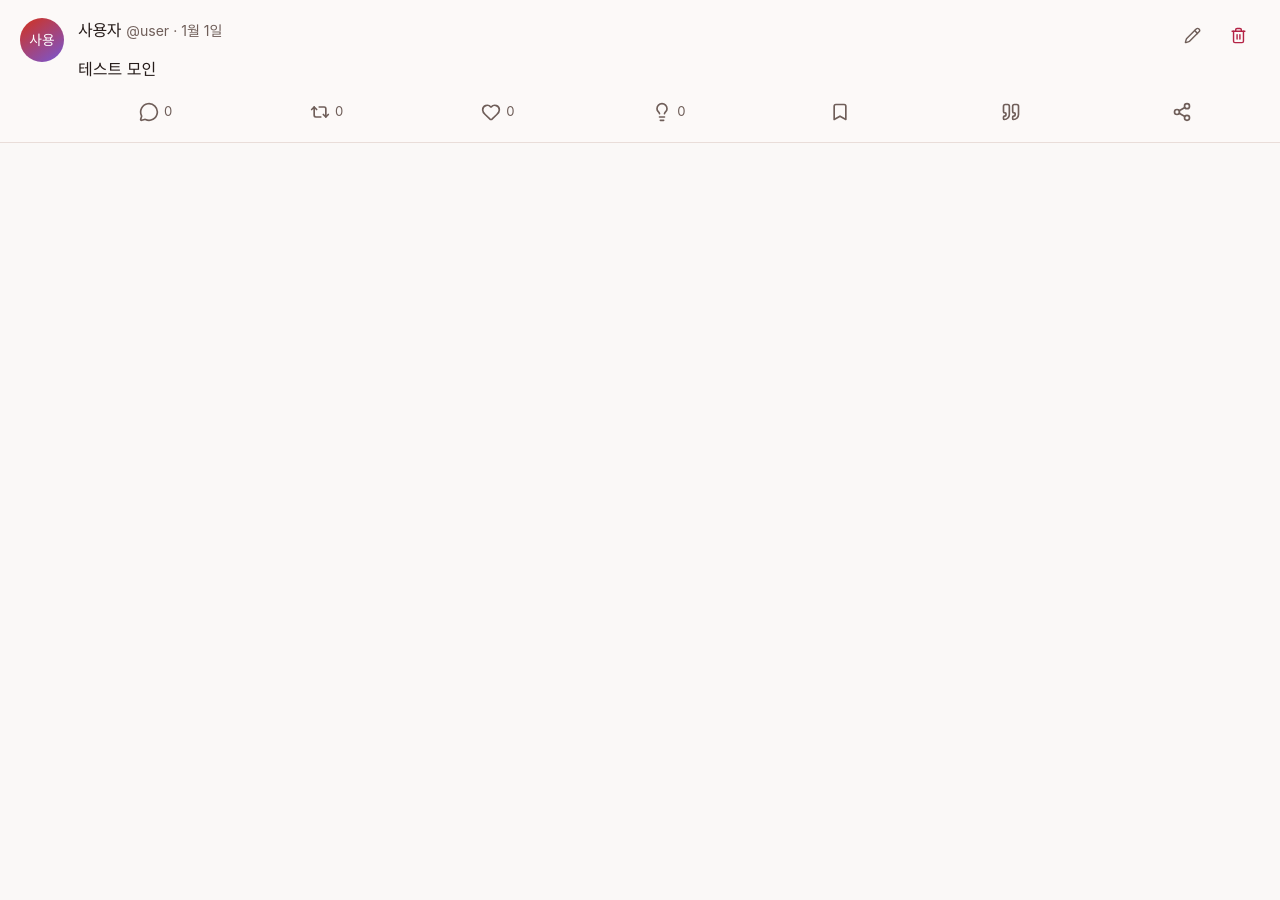
Scenario: MoinCard optimistic mutation › 확인 후 본인 모인을 삭제하고 피드 cache callback에 반영한다
Click the button named "모인 삭제" at (1238, 35), box [1216, 18, 1260, 52]
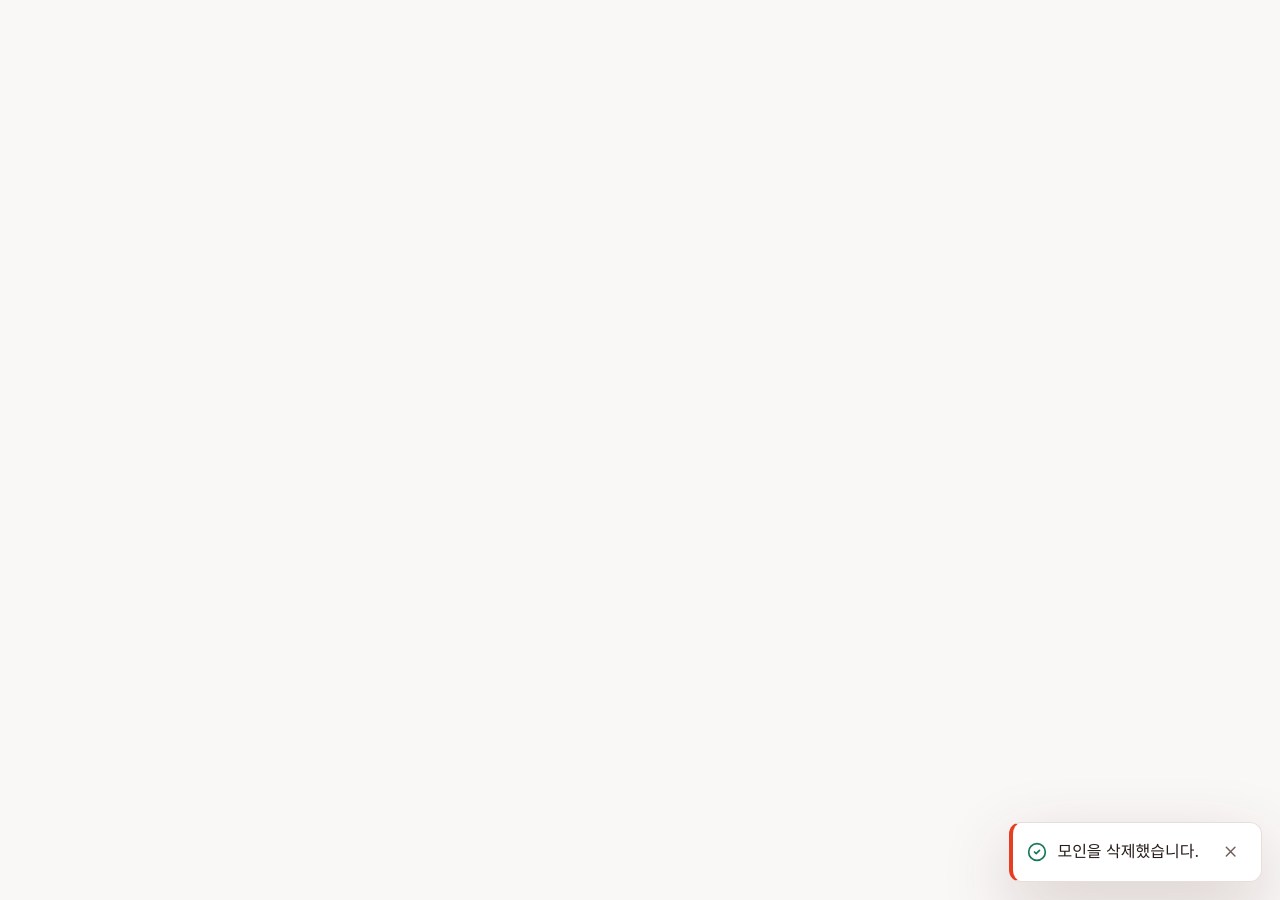
Now the link "테스트 모인" is gone
Now the text "모인을 삭제했습니다." is shown, box [1057, 839, 1199, 865]
